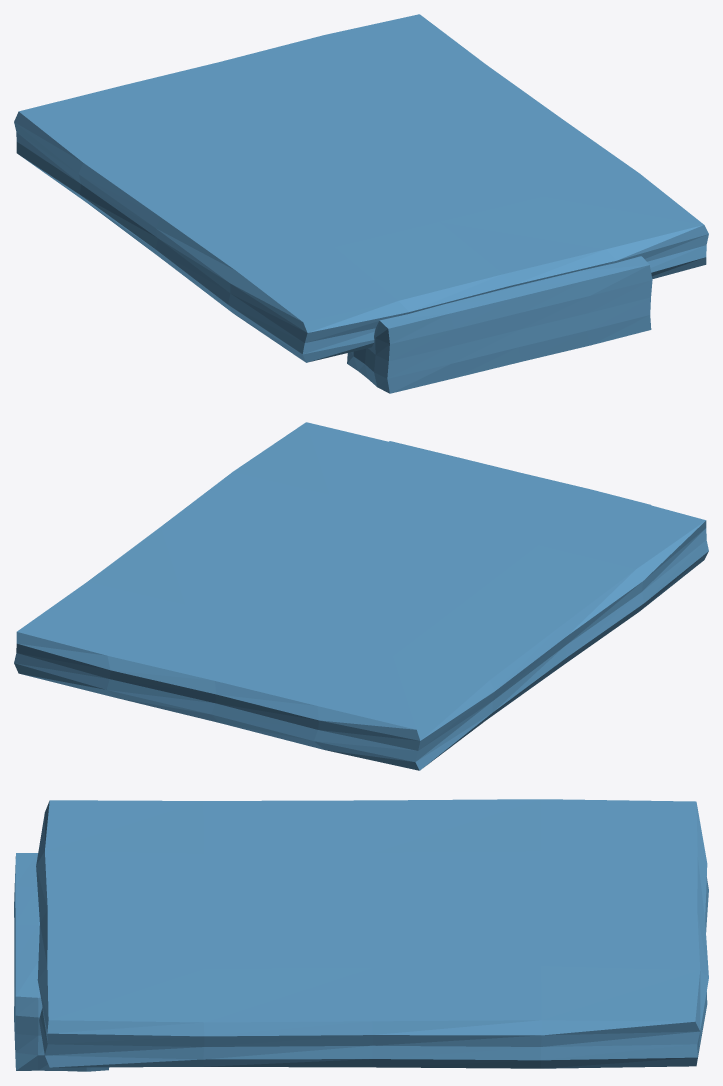
The model's file is capa-azul.glb.
The picture shows the model from 3 angles, top to bottom: view 1: azimuth 30°, elevation 25°; view 2: azimuth 150°, elevation 25°; view 3: azimuth 270°, elevation 25°; orthographic projection. The views are drawn at different scales.
Parts seen in each view (by area): view 1: capa-azul_00, capa-azul_01; view 2: capa-azul_00; view 3: capa-azul_00, capa-azul_01.
Part boxes in pixels (x1,y1,x2,y2): capa-azul_00: (14,14,708,362); capa-azul_01: (347,256,652,393); capa-azul_00: (14,422,708,770); capa-azul_00: (36,799,708,1068); capa-azul_01: (14,853,109,1071).
Size of the model in its own units: 1.05 by 0.1931 by 1.35.
